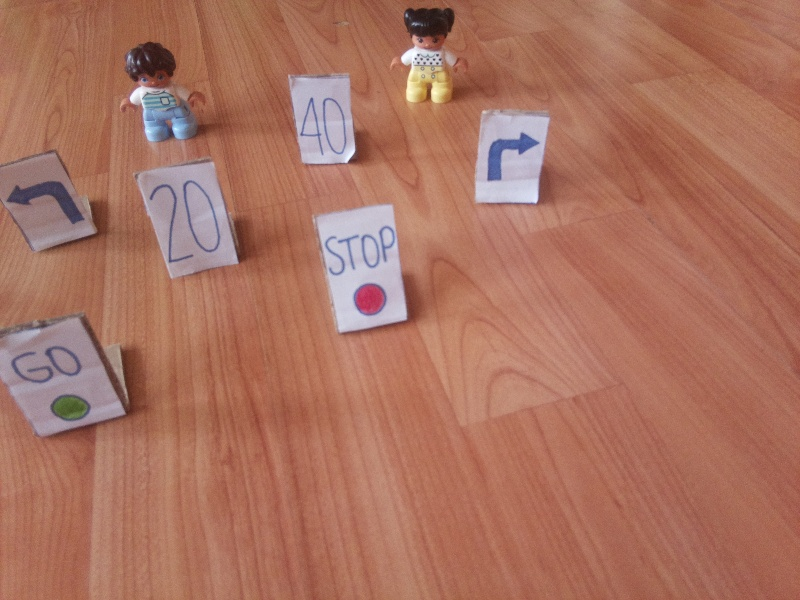20: (146, 181, 229, 262)
40: (298, 94, 352, 158)
go: (10, 337, 97, 421)
person: (114, 41, 213, 140), (387, 8, 467, 107)
stop: (325, 223, 406, 317)
turn left: (4, 179, 88, 229)
turn right: (484, 129, 544, 188)
